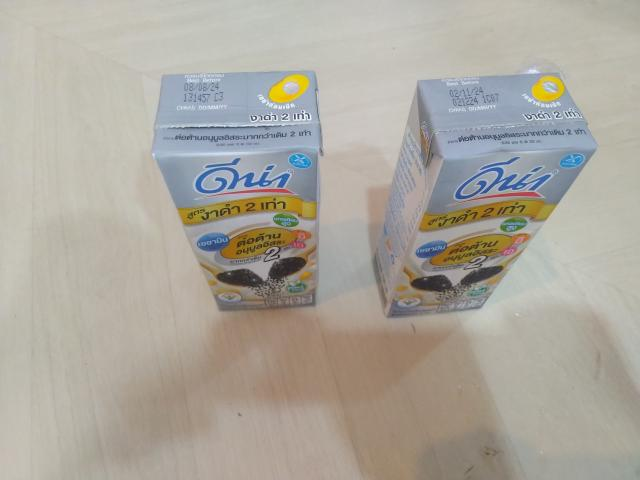drink_box: (378, 52, 586, 322), (142, 60, 337, 317)
